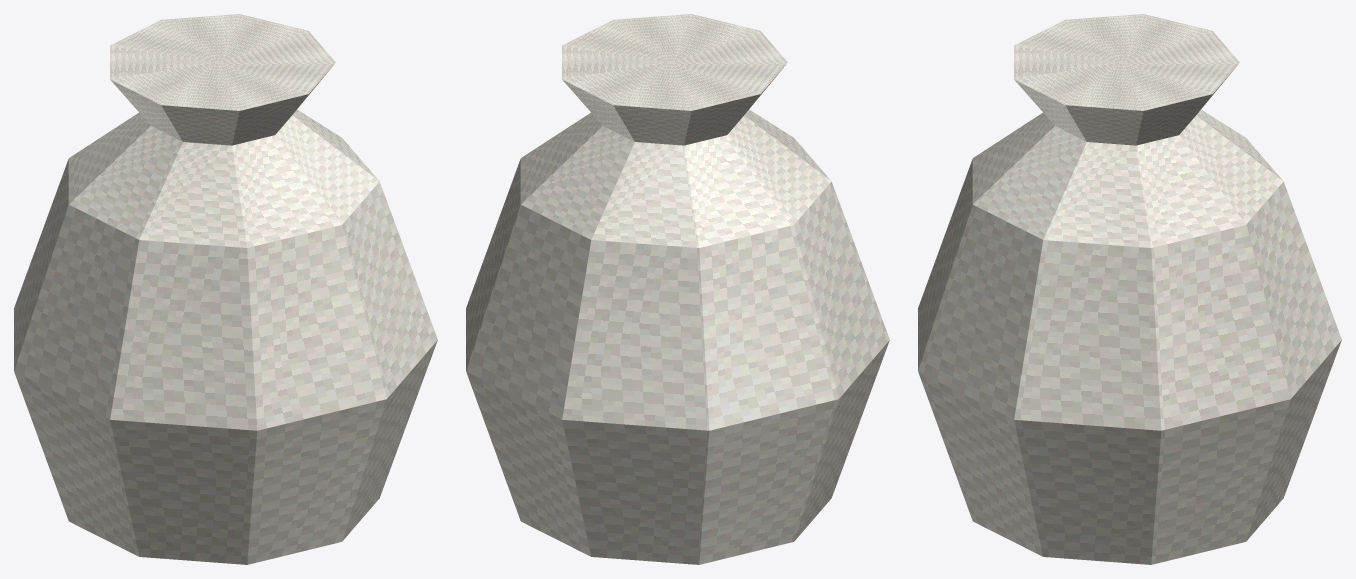
3 renders of one model, left to right at view 1: azimuth 30°, elevation 25°; view 2: azimuth 150°, elevation 25°; view 3: azimuth 270°, elevation 25°, orthographic.
Parts seen in each view (by area): view 1: la; view 2: la; view 3: la.
Part boxes in pixels (box(x1,y1,x2,y2)): la: box(14, 14, 437, 564); la: box(466, 14, 889, 564); la: box(918, 14, 1341, 564).
Bounding box in the file's own units: 0.5909 × 0.66 × 0.5819.
1 material, 1 textured.
